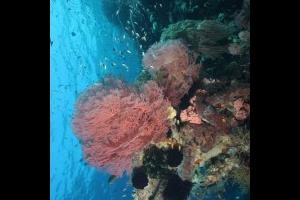bleached_corals: (50, 50, 187, 187)
